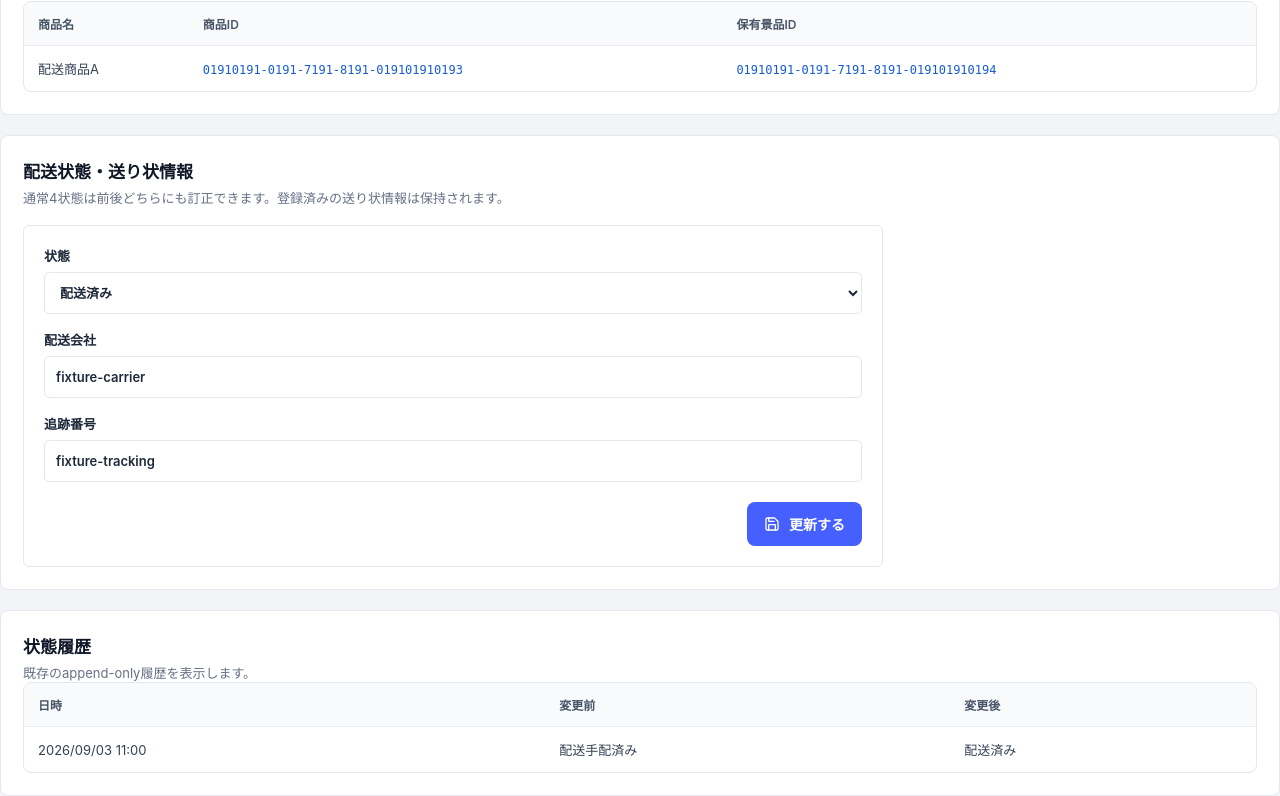
Admin Shipping management › shows a useful error when a status update is rejected
(page scrolled)
What coordinates should you click on to do the following:
click the button "更新する"
I would click on:
 (804, 524)
Its box is left=747, top=502, right=862, bottom=546.
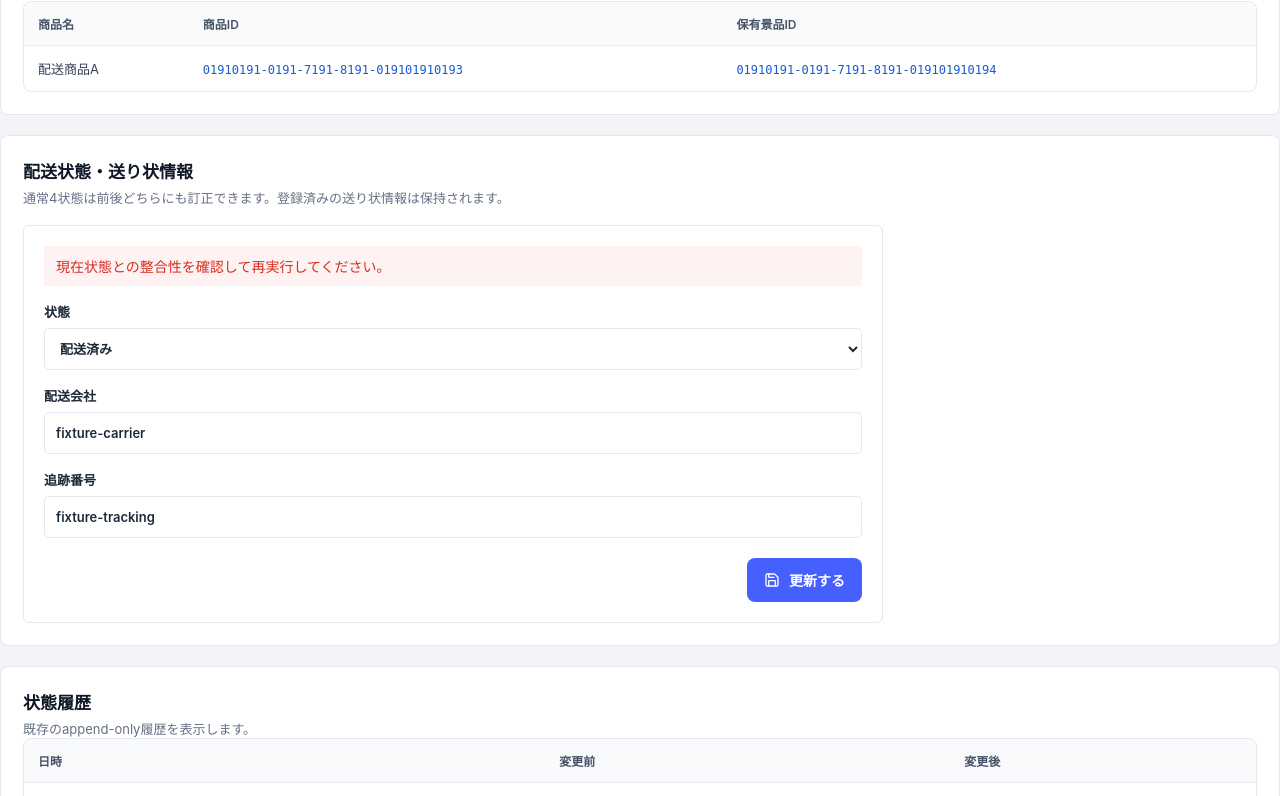
Check: the message reads "現在状態との整合性を確認して再実行してください。", box left=56, top=258, right=391, bottom=275
